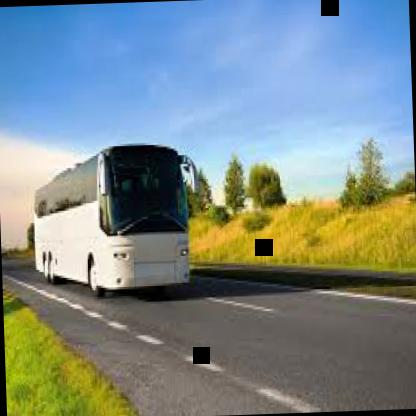car: (20, 134, 244, 318)
